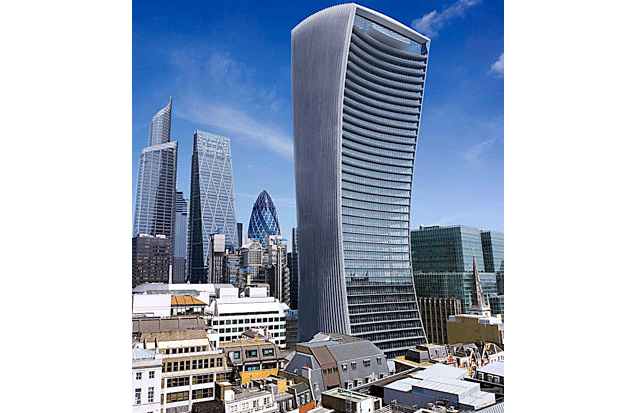Walkie talkie: (286, 2, 434, 347)
